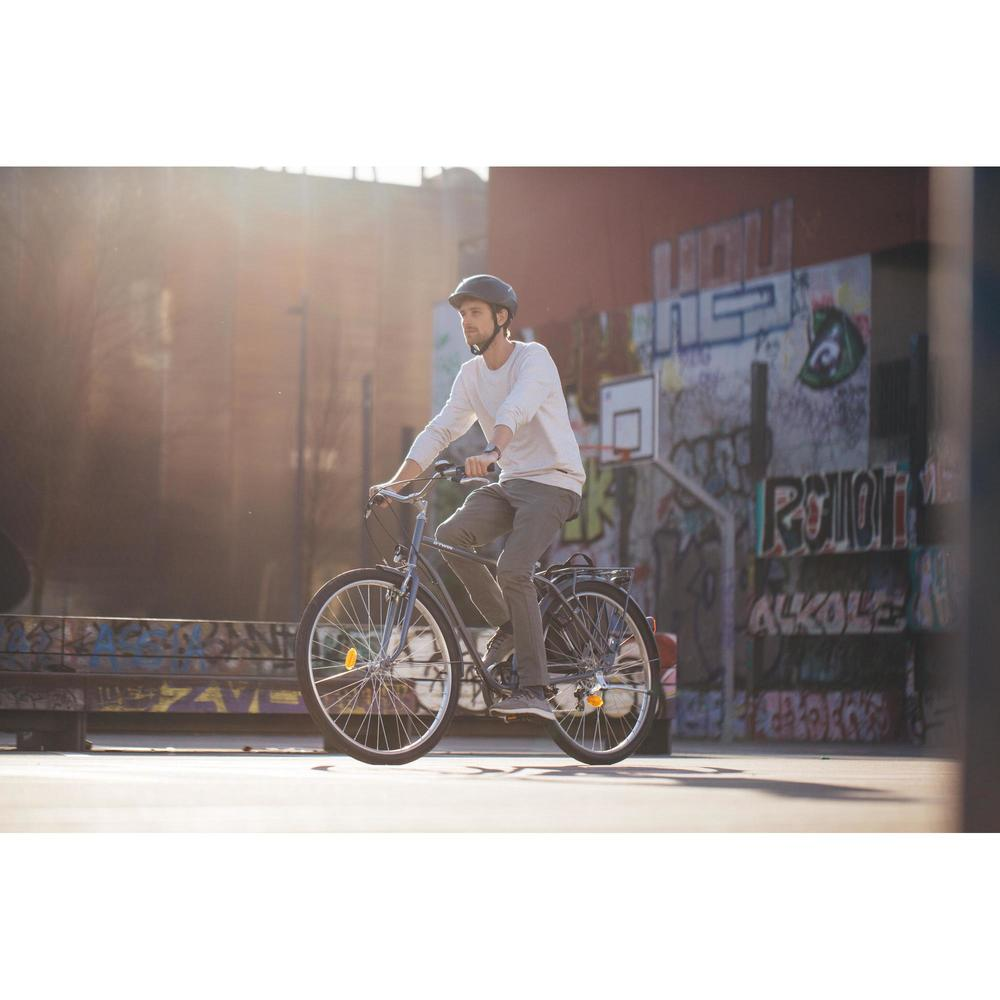UrbanBike: (309, 456, 681, 762)
